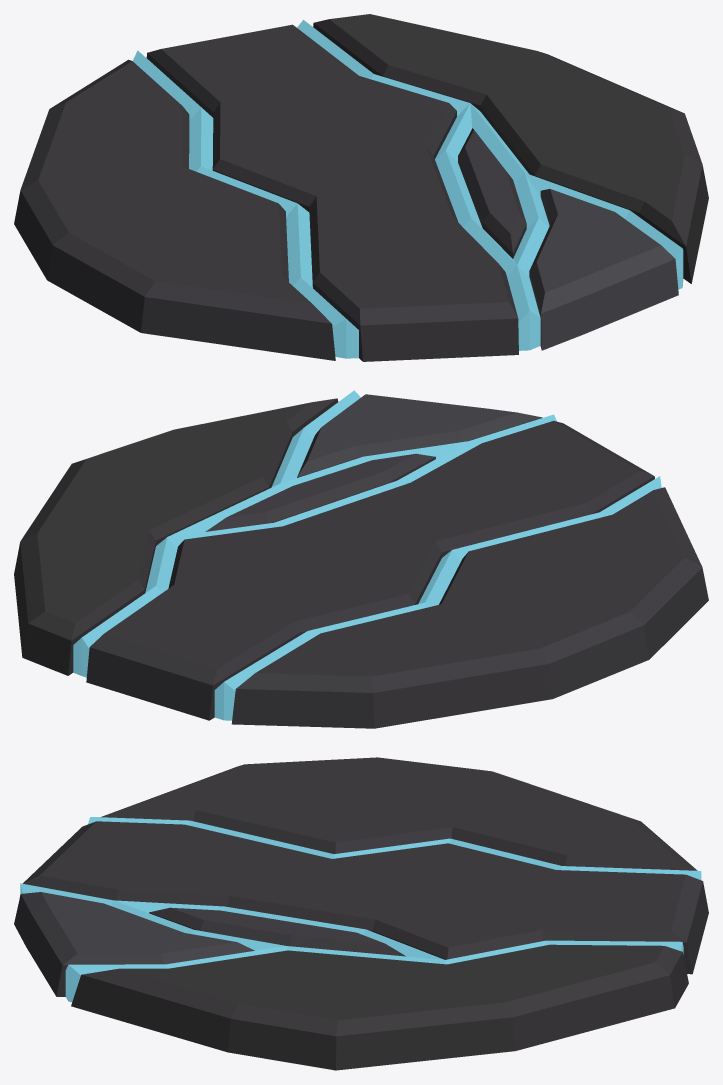
Rendered from crystal-veined-slab-375a56.glb.
3 views of the same model, one above another, from view 1: azimuth 30°, elevation 25°; view 2: azimuth 150°, elevation 25°; view 3: azimuth 270°, elevation 25° (orthographic). The views are drawn at different scales.
Visible parts, largest first — view 1: slab; view 2: slab; view 3: slab.
Part boxes in pixels (x1,y1,x2,y2): slab: [14, 14, 708, 361]; slab: [14, 390, 708, 728]; slab: [14, 757, 708, 1070].
Bounding box in the file's own units: 0.9018 × 0.06 × 0.9379.
